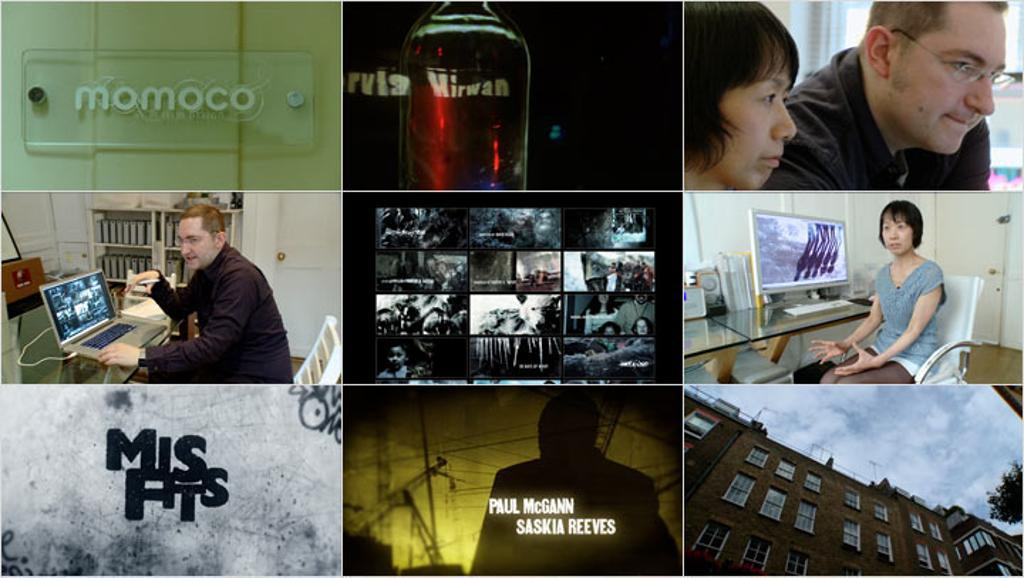face: (892, 2, 1006, 154), (703, 40, 798, 190), (179, 217, 214, 270), (883, 213, 913, 255), (388, 347, 406, 369), (636, 289, 648, 305), (415, 366, 427, 381), (637, 321, 647, 336), (623, 269, 632, 284), (600, 291, 609, 304), (606, 327, 615, 339), (438, 262, 446, 273)
